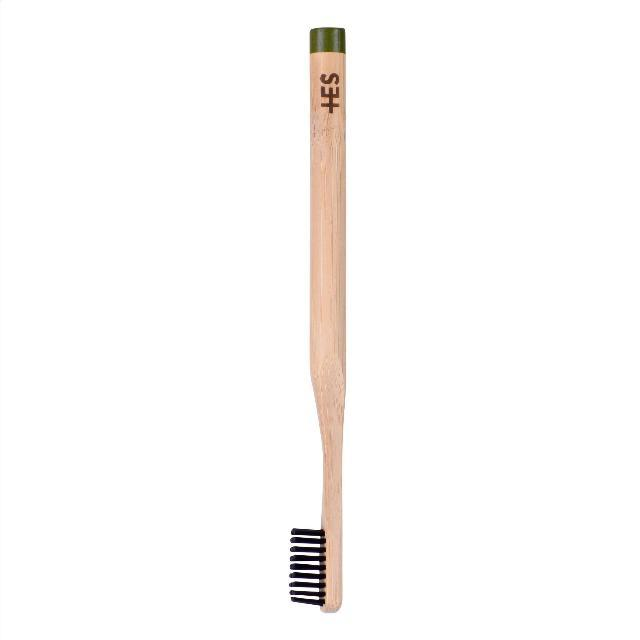toothbrush: (240, 6, 404, 640)
